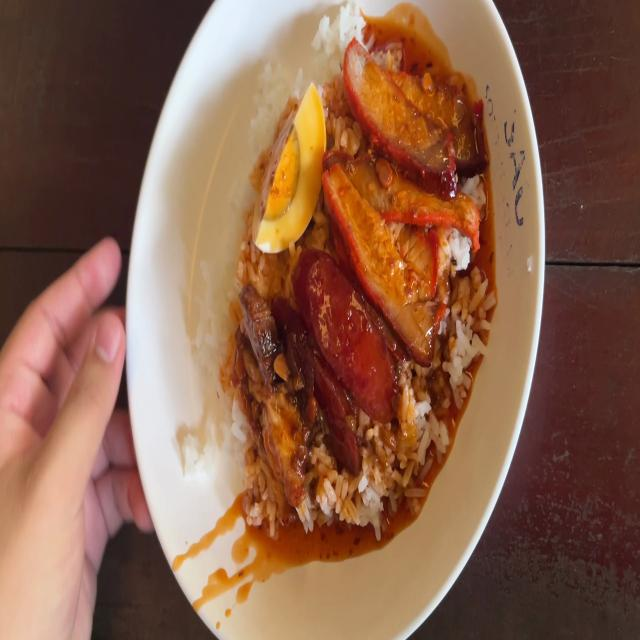01boiled_egg: (256, 93, 321, 245)
01chainese_sausage: (283, 249, 391, 459)
01crispy_pork: (231, 272, 277, 408), (253, 381, 305, 501)
01red_pork: (334, 42, 470, 332)
01red_pork_and_crispy_pork: (203, 21, 487, 526)
01rice: (444, 276, 493, 382), (316, 462, 387, 528), (399, 384, 442, 484), (304, 14, 359, 51)
